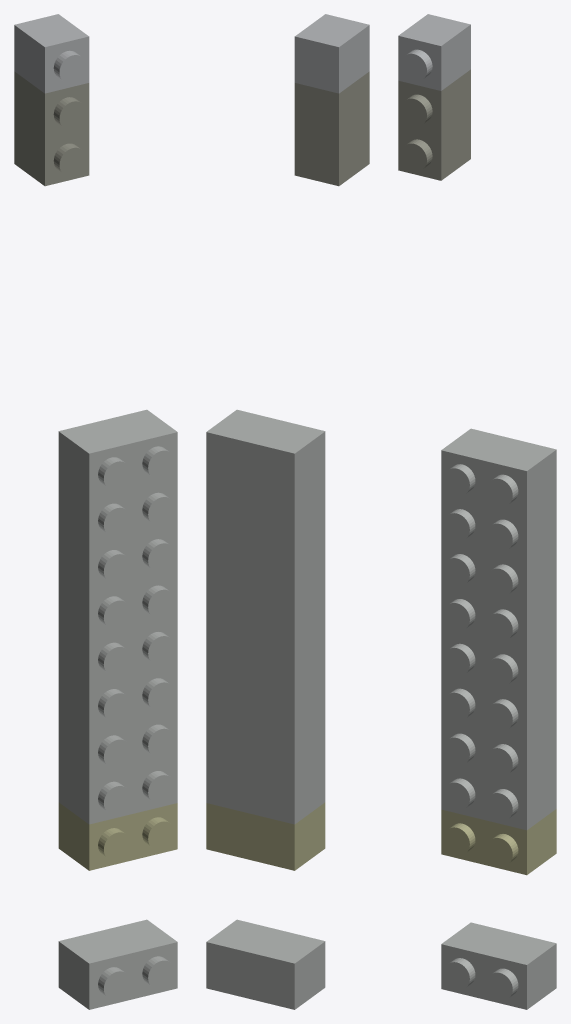
File: current.glb
3 views of the same model, side by side, from view 1: azimuth 30°, elevation 25°; view 2: azimuth 150°, elevation 25°; view 3: azimuth 330°, elevation 25° (orthographic). The views are drawn at different scales.
Parts seen in each view (by area): view 1: world; view 2: world; view 3: world.
Part boxes in pixels (left/top/right/bottom): world: left=14, top=14, right=177, bottom=1009; world: left=206, top=14, right=369, bottom=1009; world: left=398, top=14, right=556, bottom=1009.
Size of the model in its own units: 24 by 168 by 11.4.
